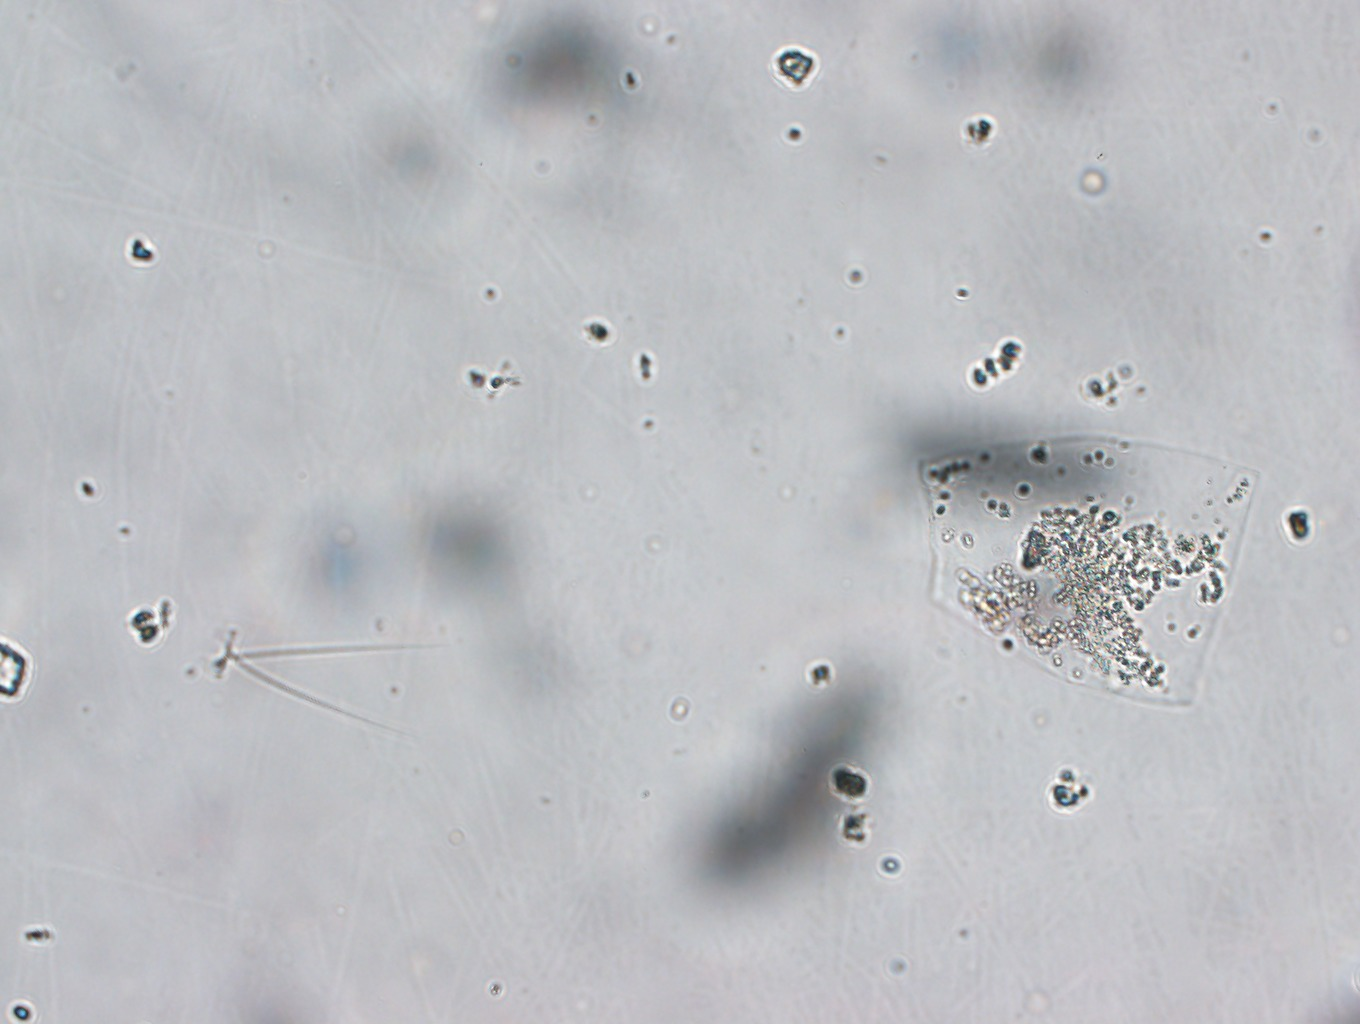helicotheca: (897, 427, 1268, 716)
